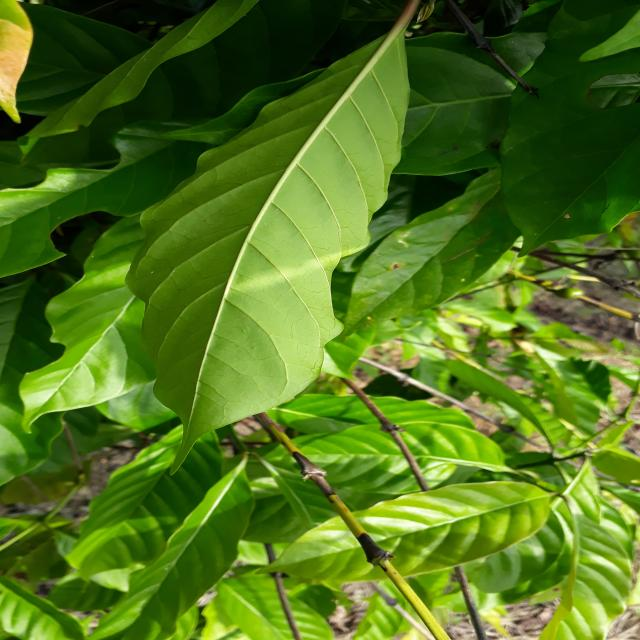Sanas: (126, 0, 417, 453)
